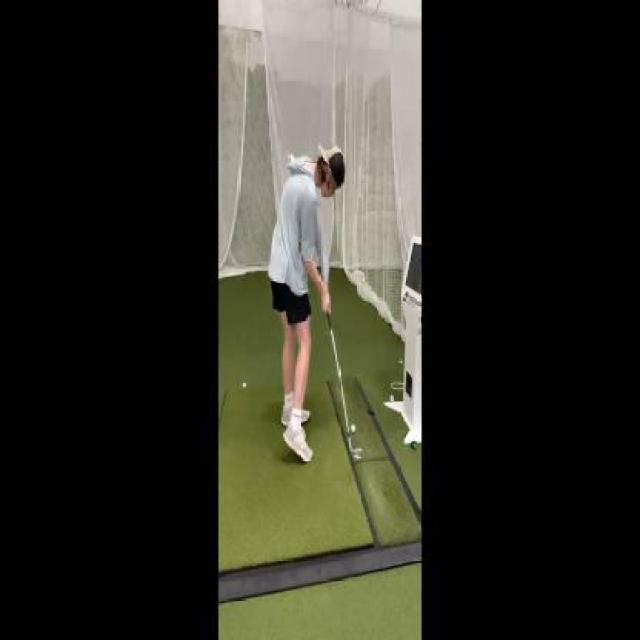club head: (347, 440, 365, 463)
